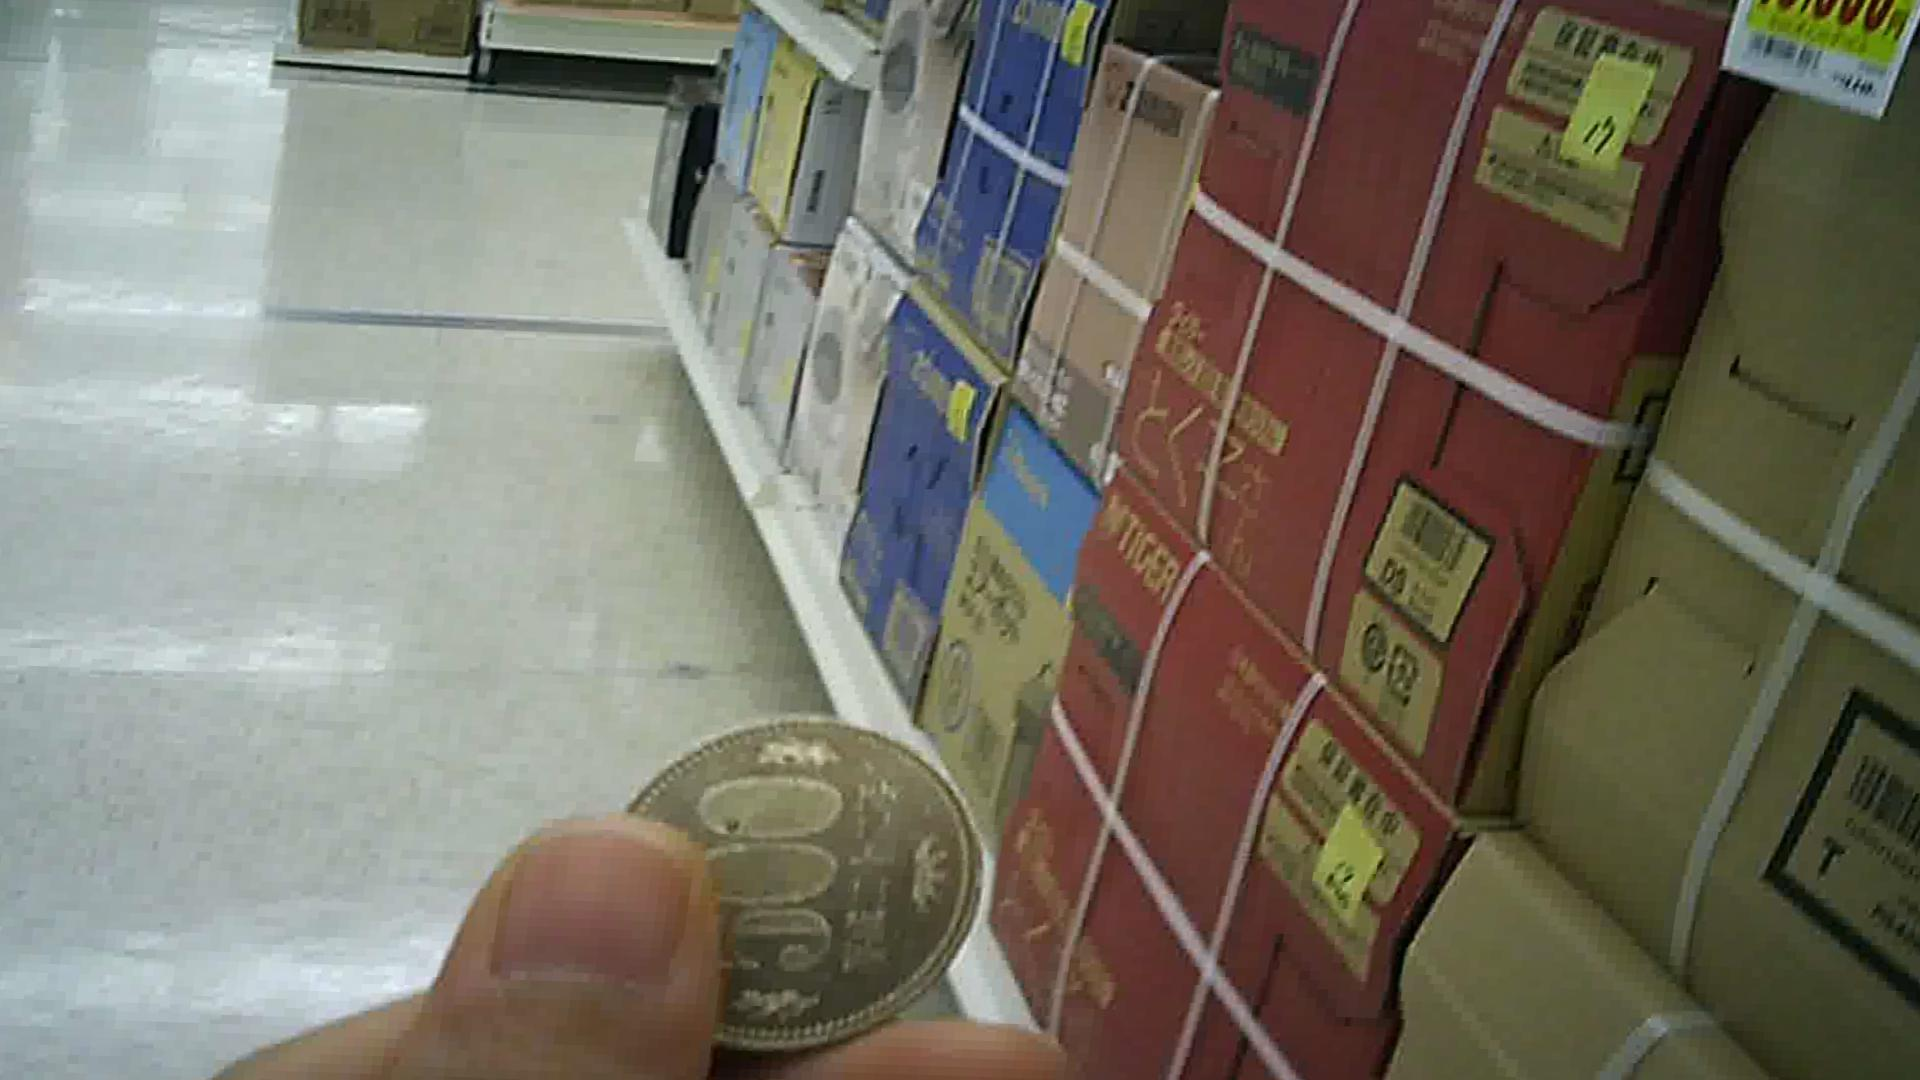500 Yen: (611, 716, 973, 1048)
